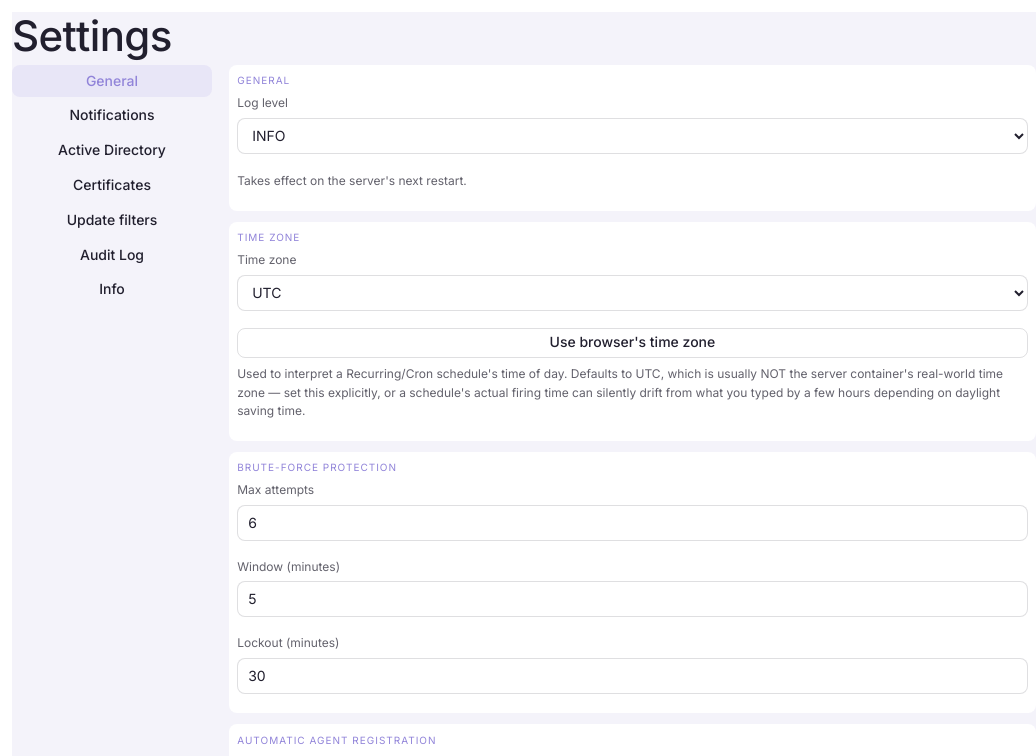
Test case: AdminPage › switches to the Certificates tab and submits an edited validity period
Click the tab "Certificates" at (112, 185), box left=12, top=169, right=212, bottom=202
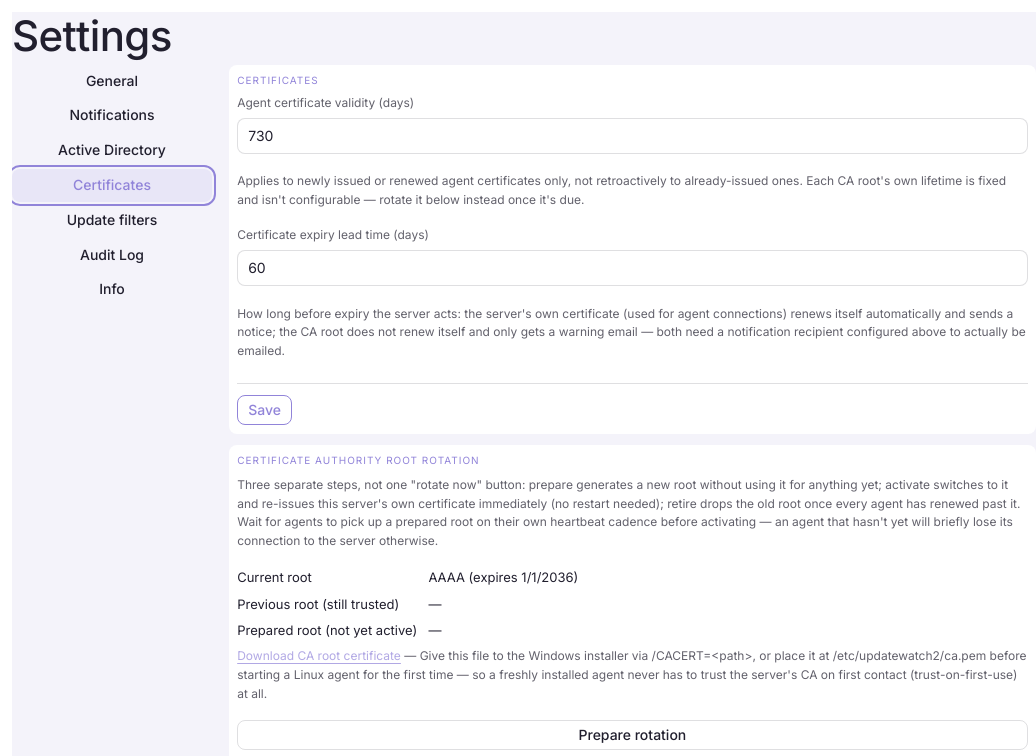
Replace the text in the number field labelled "Agent certificate validity (days)" with "90" at (632, 136), box left=237, top=118, right=1028, bottom=154
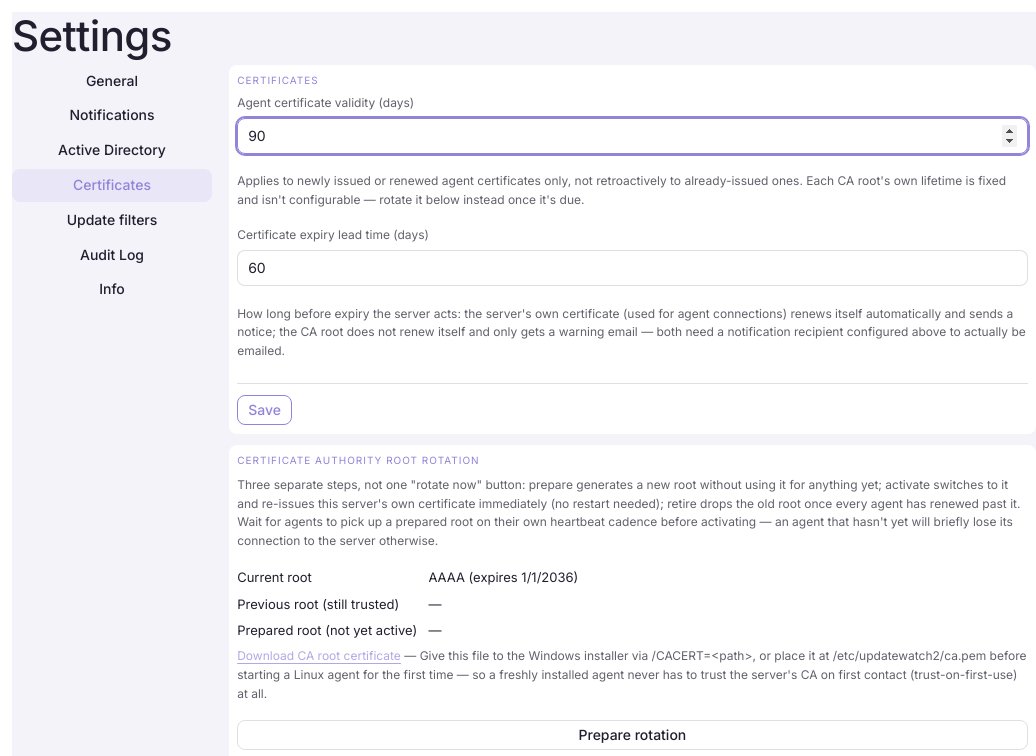
Click the button "Save" at (265, 410), box left=237, top=395, right=292, bottom=425
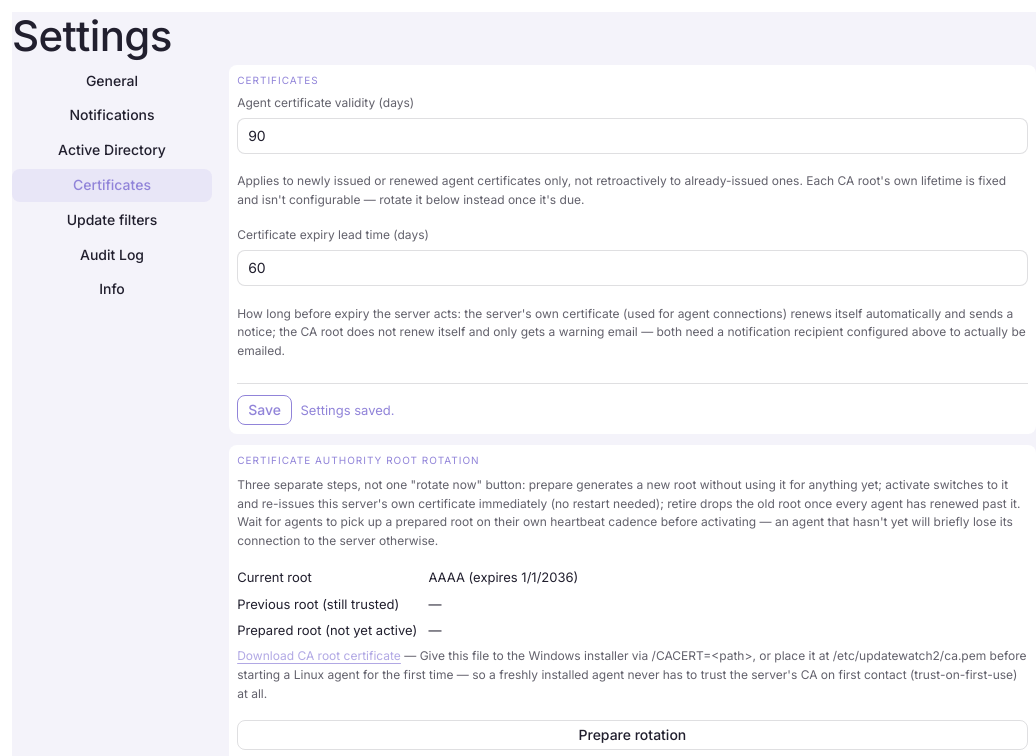
Expected: the message "Settings saved." is shown, left=300, top=400, right=395, bottom=420
